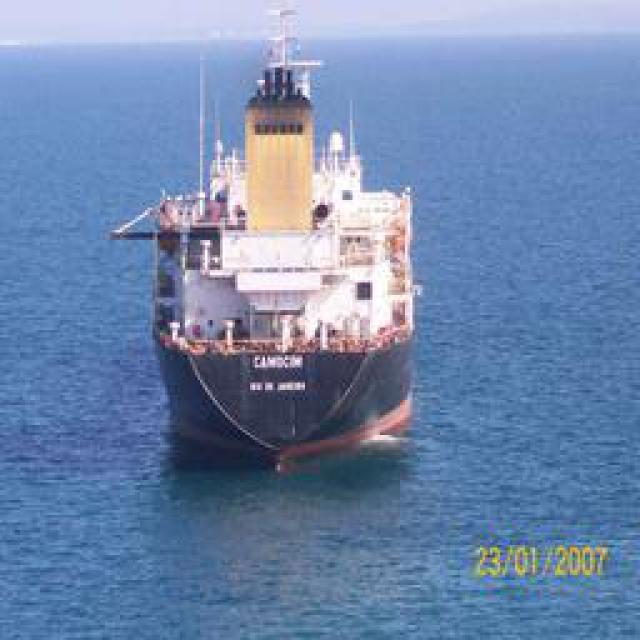Ship: (137, 14, 425, 474)
